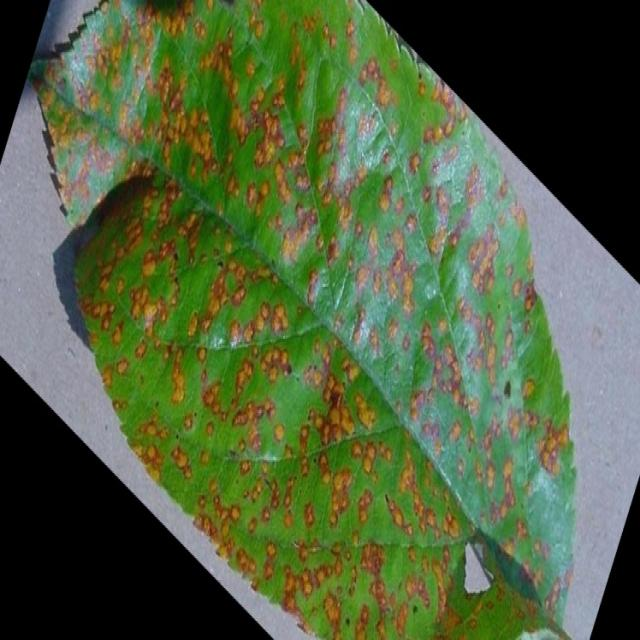Gymnosporangium_Rusts: (28, 0, 578, 637)
